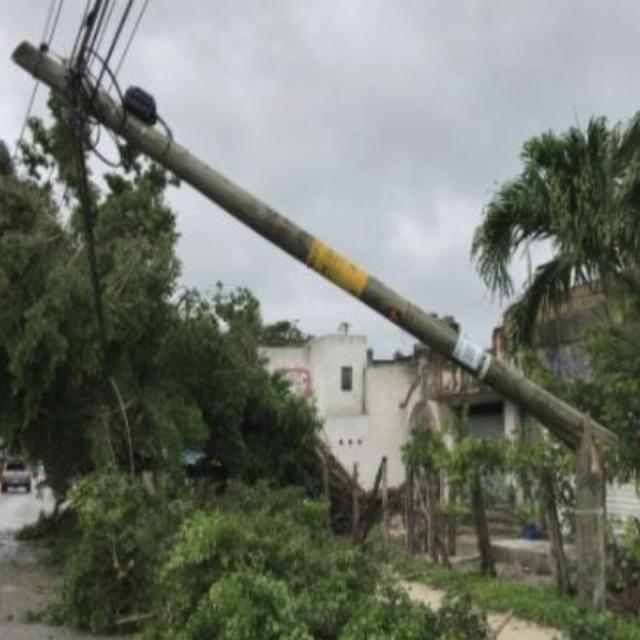Inclined Pole: (10, 27, 623, 612)
